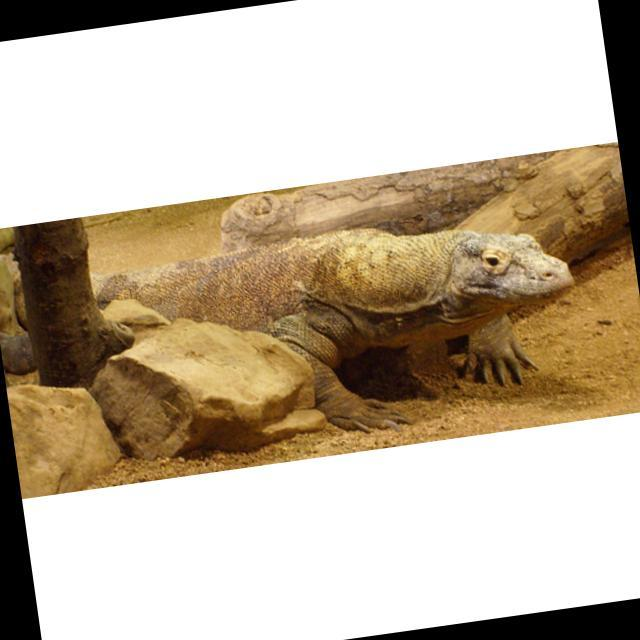KomodoDragon: (16, 193, 589, 474)
